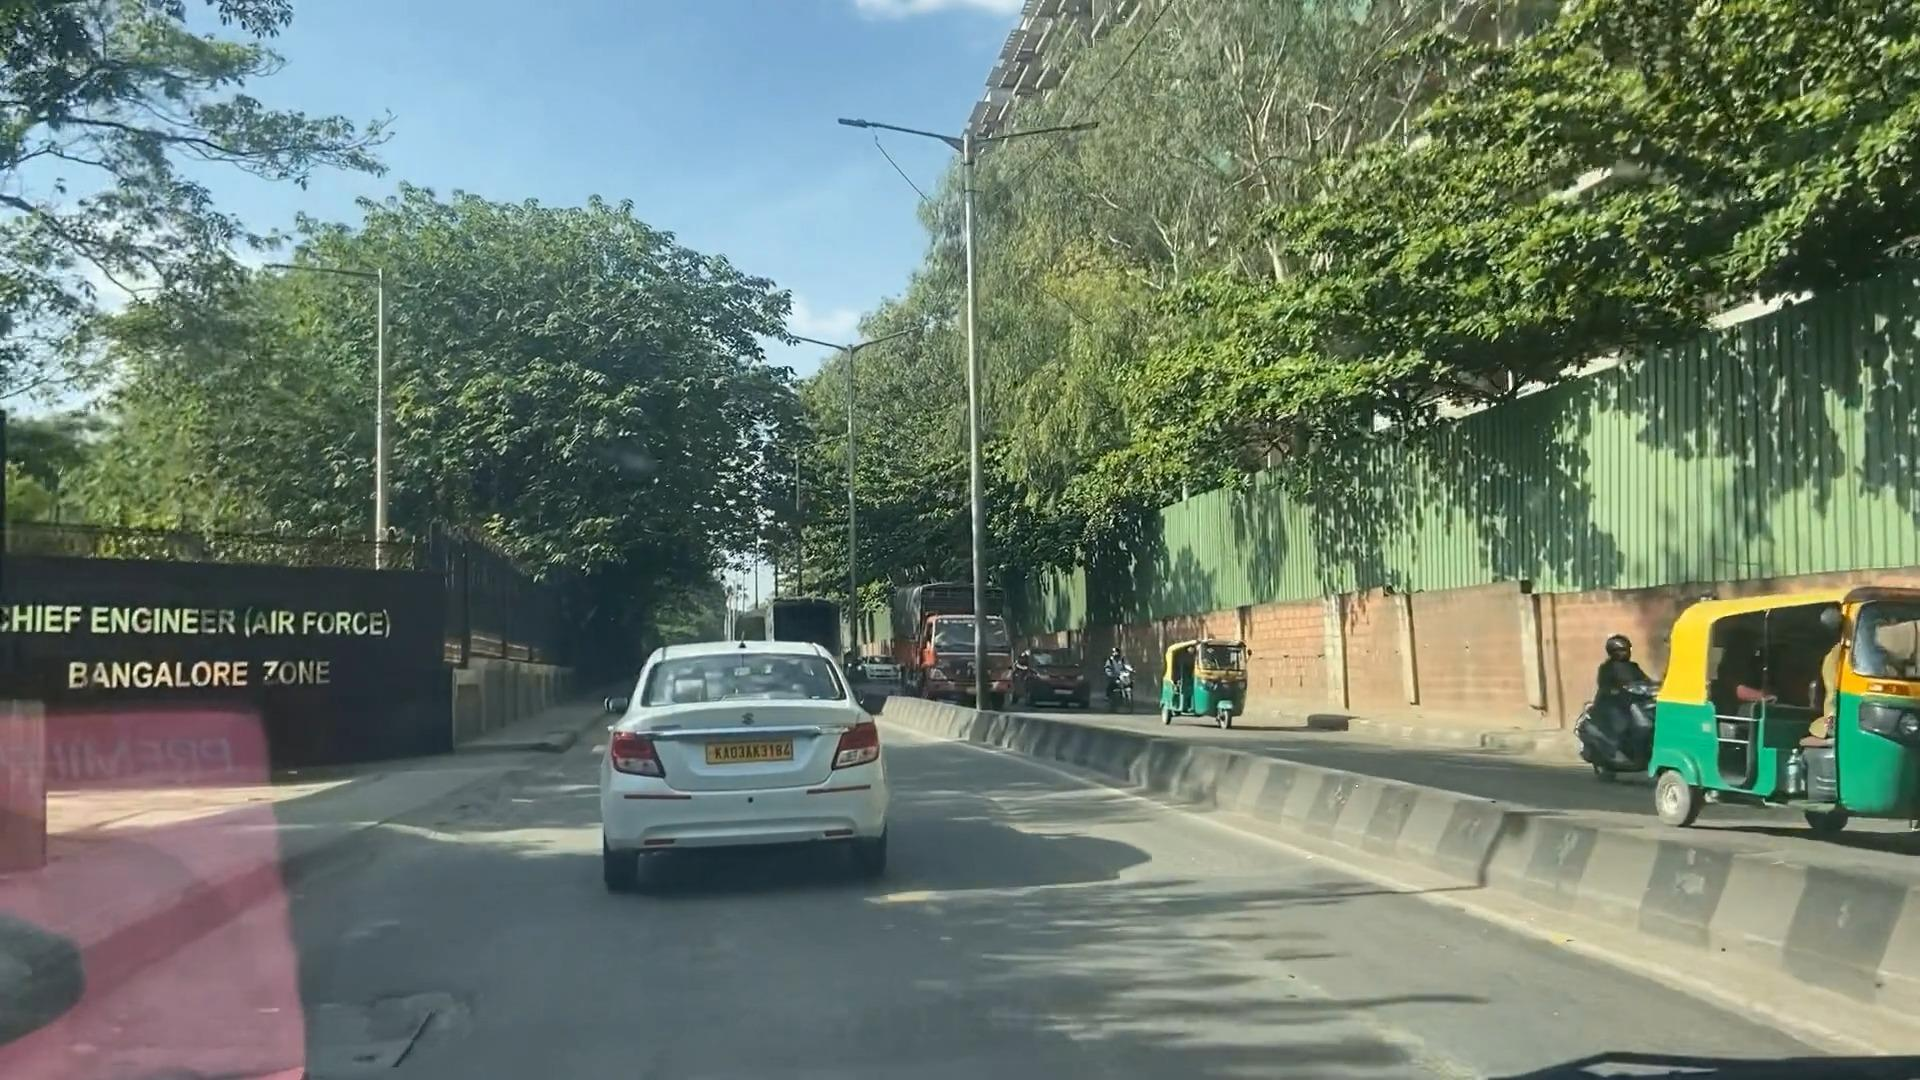RoadDamages: (105, 961, 463, 1080)
